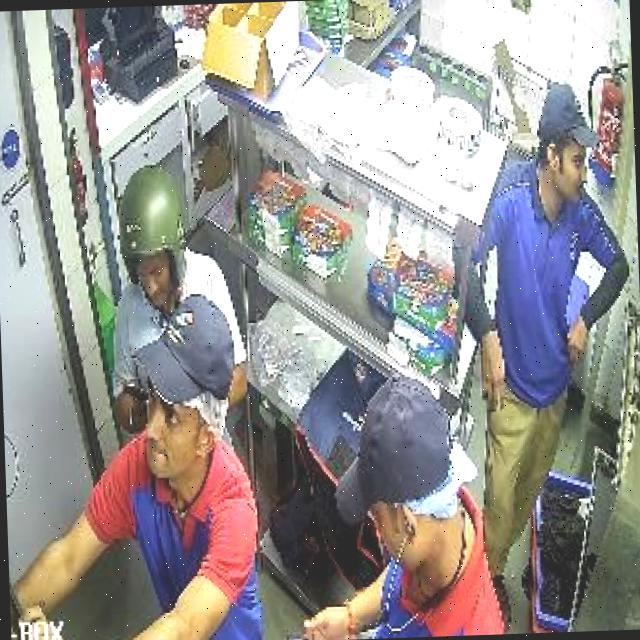helmet: (119, 167, 183, 309)
no_helmet: (336, 371, 468, 594), (136, 291, 235, 503), (535, 81, 600, 219)
